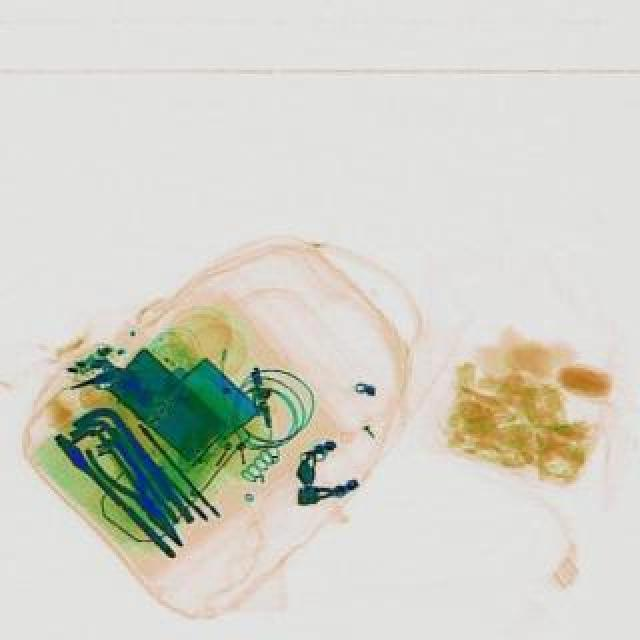wrench: (84, 430, 200, 558)
